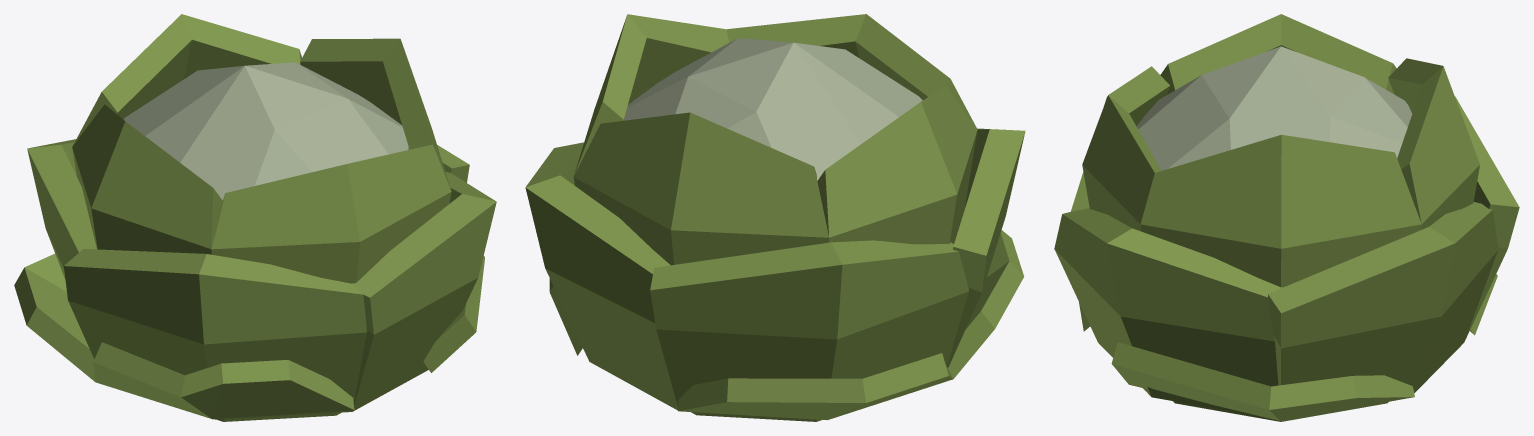
File: SM_Envr_Nature_Farm_Plant_Cabbage.fbx
3 renders of one model, left to right at view 1: azimuth 30°, elevation 25°; view 2: azimuth 150°, elevation 25°; view 3: azimuth 270°, elevation 25°, orthographic. The views are drawn at different scales.
Visible parts, largest first — view 1: SM_Envr_Nature_Farm_Plant_Cabbage; view 2: SM_Envr_Nature_Farm_Plant_Cabbage; view 3: SM_Envr_Nature_Farm_Plant_Cabbage.
Boxes of the visible parts, x1,y1,x2,y2 form: SM_Envr_Nature_Farm_Plant_Cabbage: (14, 14, 496, 421); SM_Envr_Nature_Farm_Plant_Cabbage: (525, 14, 1025, 421); SM_Envr_Nature_Farm_Plant_Cabbage: (1054, 14, 1519, 421).
Bounding box in the file's own units: 15.61 × 10.74 × 14.92.
